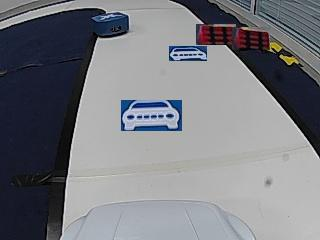prop: (92, 12, 129, 37)
